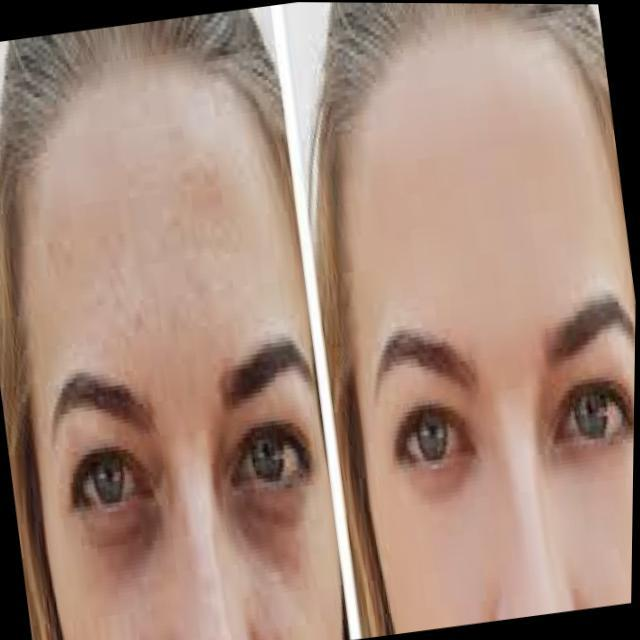Puffy Eyes - v3 Dark Circle: (228, 481, 328, 588), (78, 506, 172, 588), (402, 454, 483, 501), (556, 442, 634, 472)
